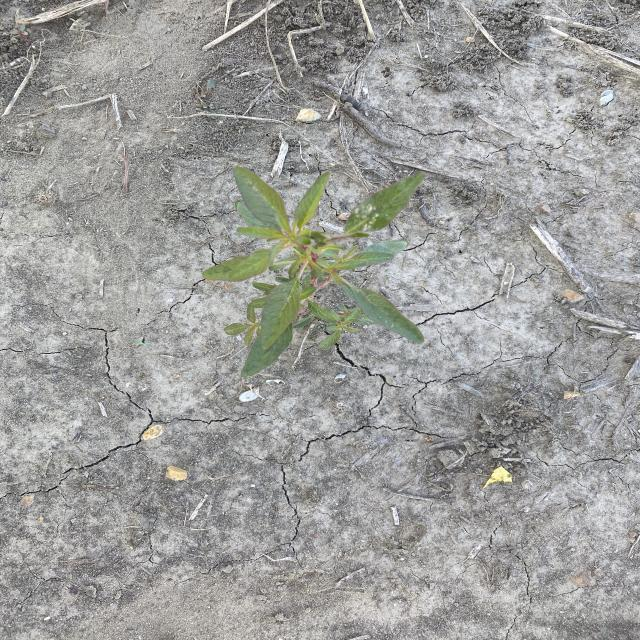Waterhemp: (200, 163, 430, 380)
